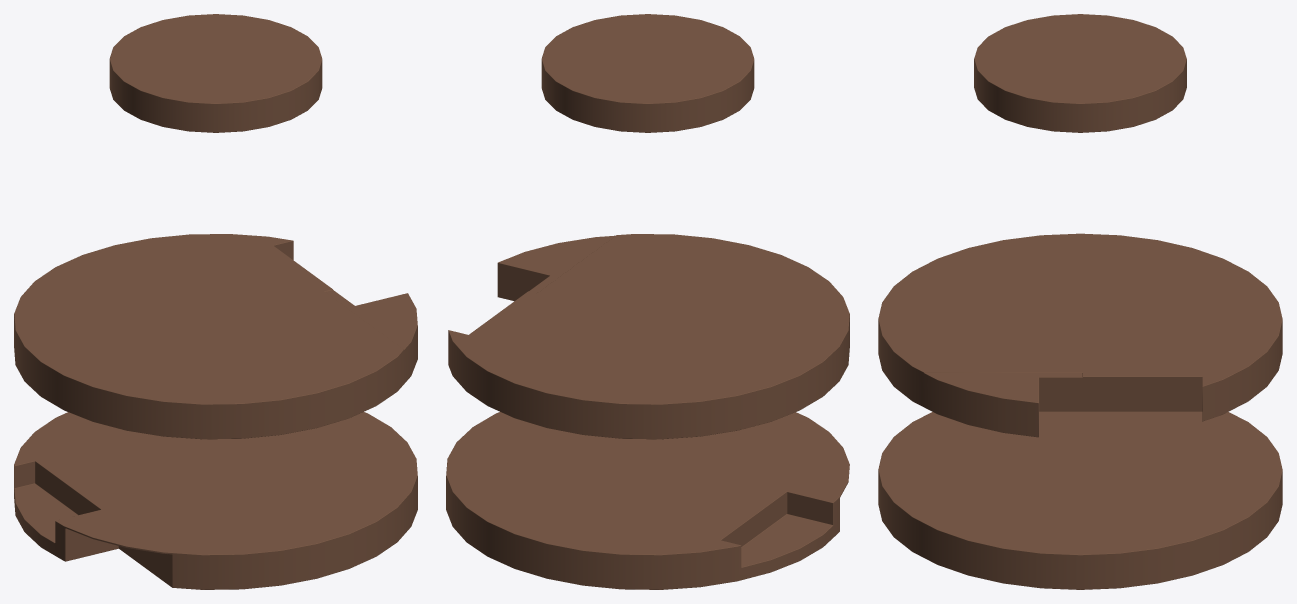
Rendered from SM_Barrel_Dented.glb.
3 views of the same model, side by side, from view 1: azimuth 30°, elevation 25°; view 2: azimuth 150°, elevation 25°; view 3: azimuth 270°, elevation 25° (orthographic).
Parts seen in each view (by area): view 1: SM_Barrel_Dented; view 2: SM_Barrel_Dented; view 3: SM_Barrel_Dented.
Boxes of the visible parts, bbox=[...] form: SM_Barrel_Dented: bbox=[14, 14, 417, 589]; SM_Barrel_Dented: bbox=[446, 14, 849, 589]; SM_Barrel_Dented: bbox=[878, 14, 1282, 589].
Bounding box in the file's own units: 0.627 × 0.7626 × 0.627.
